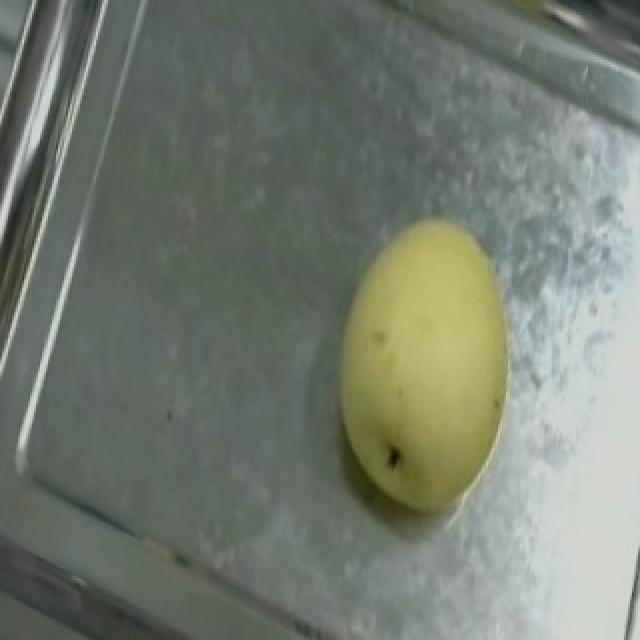Fruit: (284, 186, 544, 541)
